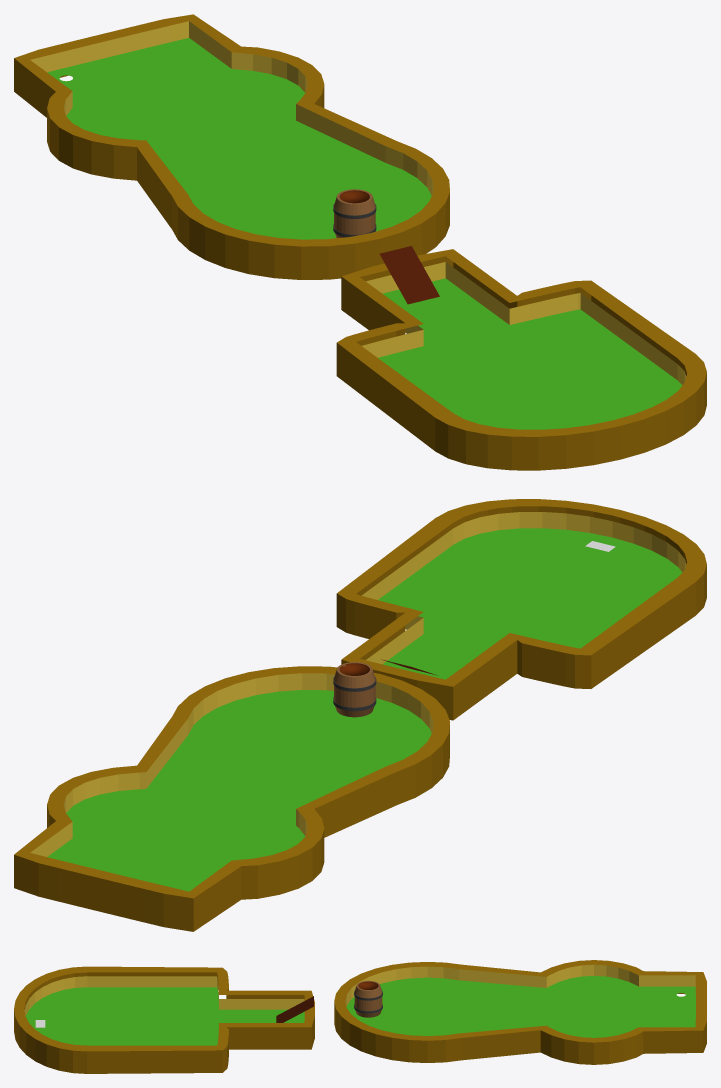
Rendered from sceneTest.glb.
The picture shows the model from 3 angles, top to bottom: view 1: azimuth 30°, elevation 25°; view 2: azimuth 150°, elevation 25°; view 3: azimuth 270°, elevation 25°; orthographic projection. The views are drawn at different scales.
Visible parts, largest first — view 1: Plane, Cylinder.001_3, Cylinder.001_4, Cylinder.001_5, Cylinder.001_0; view 2: Plane, Cylinder.001_3, Cylinder.001_4, Cylinder.001_5, Cylinder.001_0; view 3: Plane, Cylinder.001_3, Cylinder.001_4, Cylinder.001_5, Cylinder.001_0.
Boxes of the visible parts, bbox=[...] form: Plane: bbox=[336, 246, 706, 470]; Cylinder.001_3: bbox=[47, 38, 431, 239]; Cylinder.001_4: bbox=[14, 14, 449, 279]; Cylinder.001_5: bbox=[30, 21, 433, 195]; Cylinder.001_0: bbox=[334, 189, 375, 238]; Plane: bbox=[336, 499, 706, 720]; Cylinder.001_3: bbox=[47, 690, 431, 891]; Cylinder.001_4: bbox=[14, 666, 449, 931]; Cylinder.001_5: bbox=[30, 673, 433, 856]; Cylinder.001_0: bbox=[334, 662, 375, 717]; Plane: bbox=[14, 966, 314, 1073]; Cylinder.001_3: bbox=[346, 976, 695, 1037]; Cylinder.001_4: bbox=[334, 960, 706, 1064]; Cylinder.001_5: bbox=[345, 964, 695, 1006]; Cylinder.001_0: bbox=[354, 980, 382, 1017].
Size of the model in its own units: 22.06 by 5.53 by 76.08.
